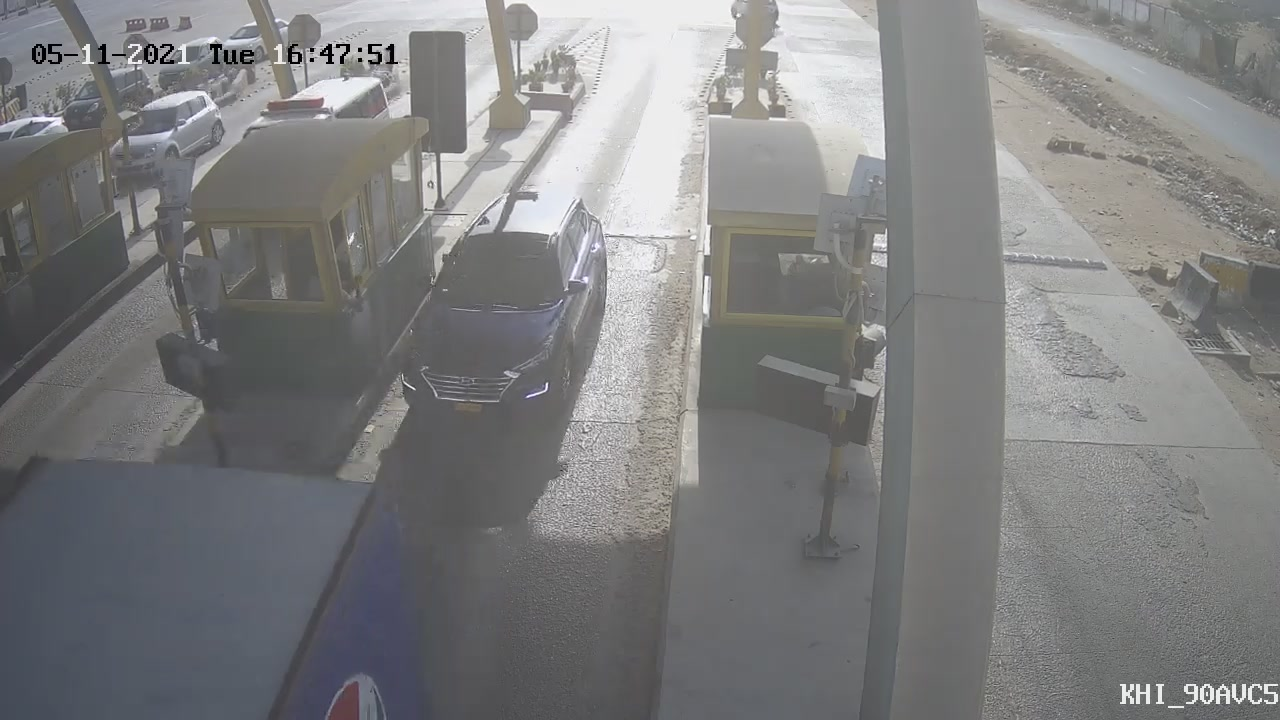F1: (378, 177, 629, 449)
